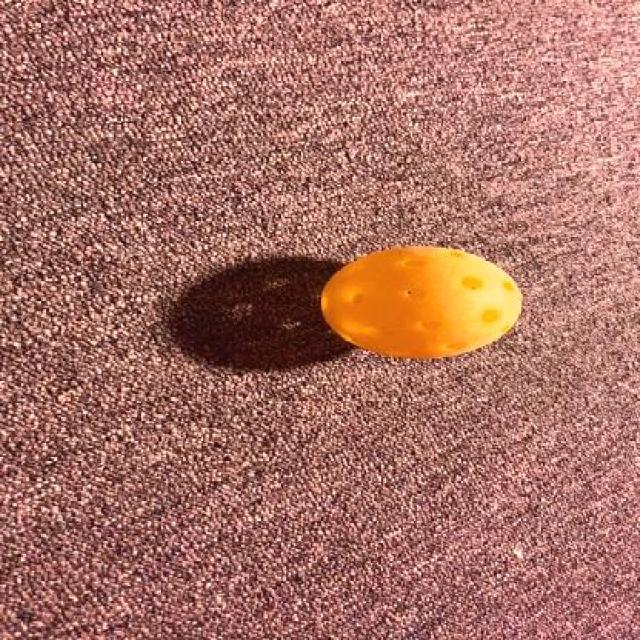ball: (315, 236, 526, 364)
